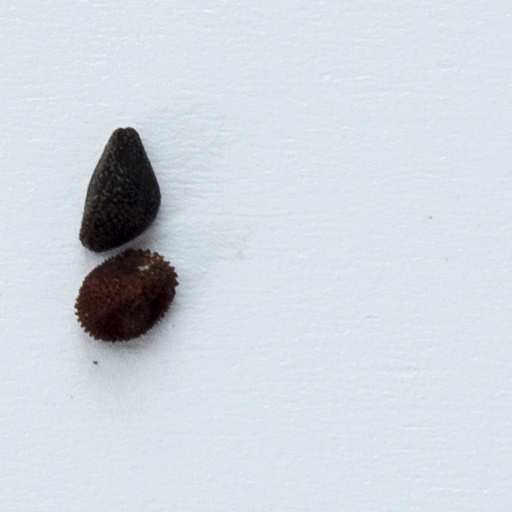Agrostemma-poly: (72, 249, 179, 346)
Convolvulus-poly: (78, 127, 164, 255)
